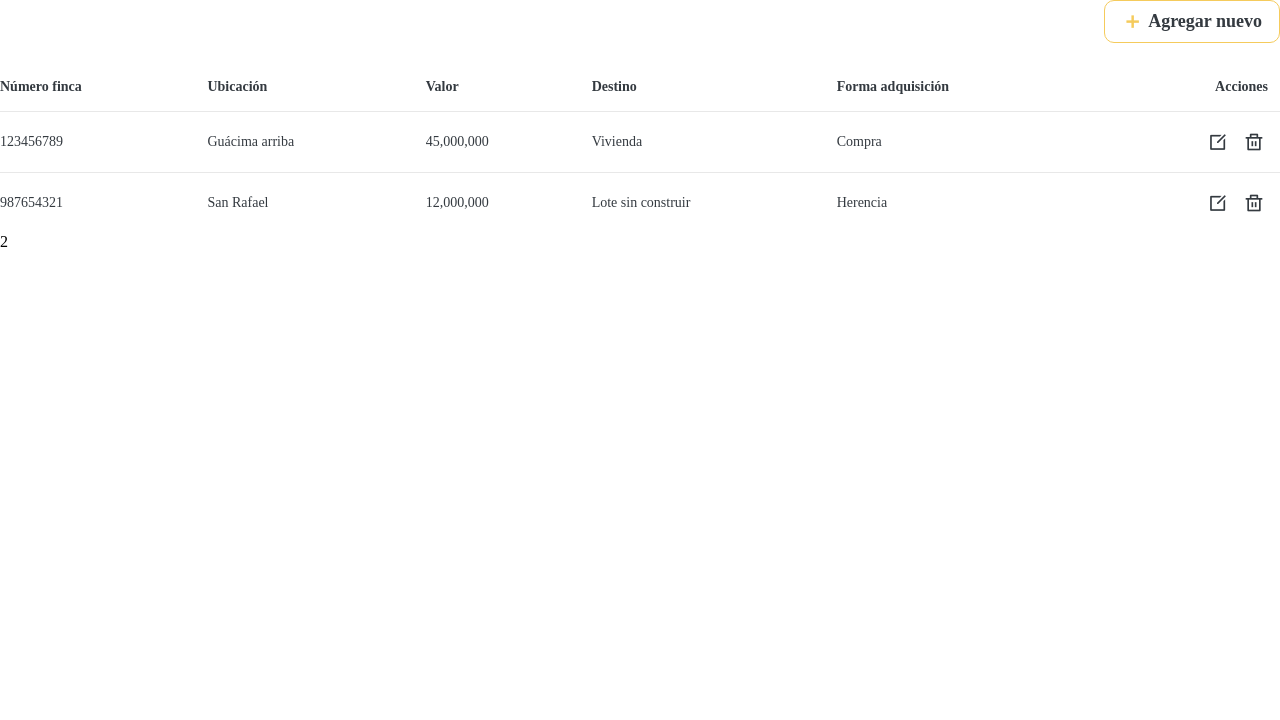
Test: RealEstate (paso 4) › removes a property and confirms with a notification
What coordinates should you click on to do the following:
click the button named "Eliminar finca 987654321"
I would click on:
 (1254, 203)
Its box is x1=1240 y1=189 x2=1268 y2=217.
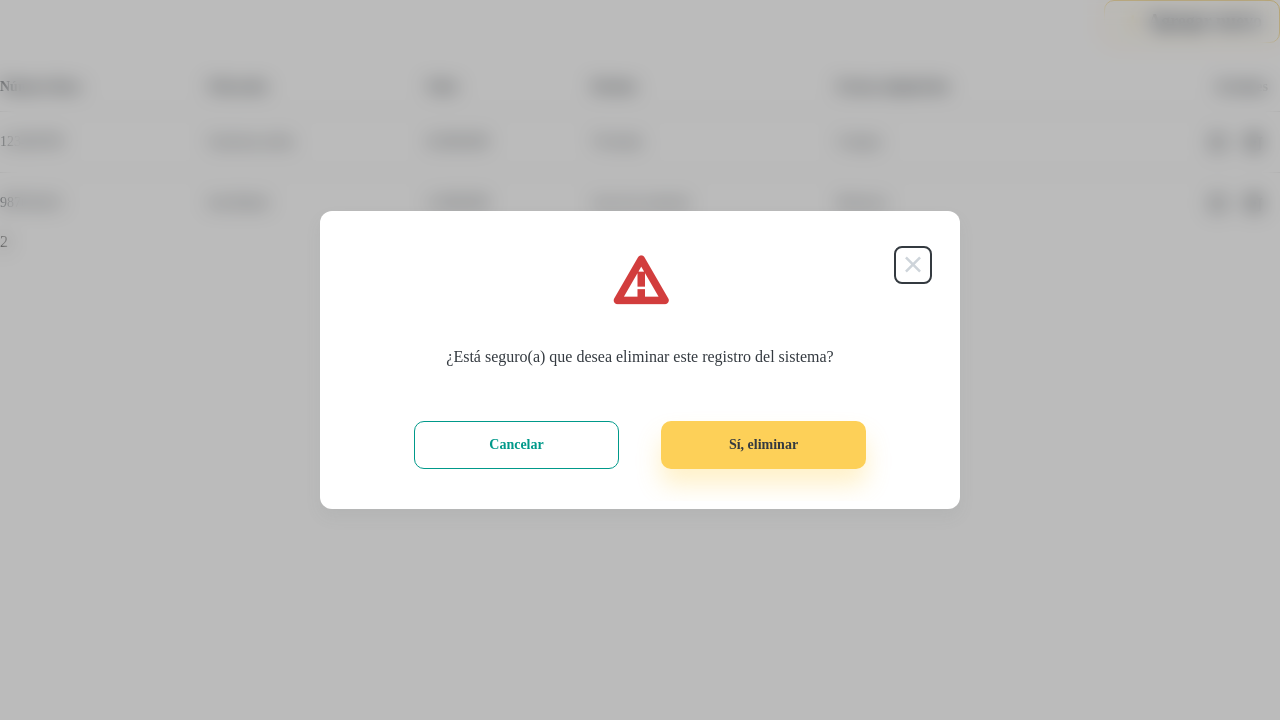
What coordinates should you click on to do the following:
click the button "Sí, eliminar"
I would click on:
 (764, 445)
Its box is x1=661 y1=421 x2=866 y2=469.
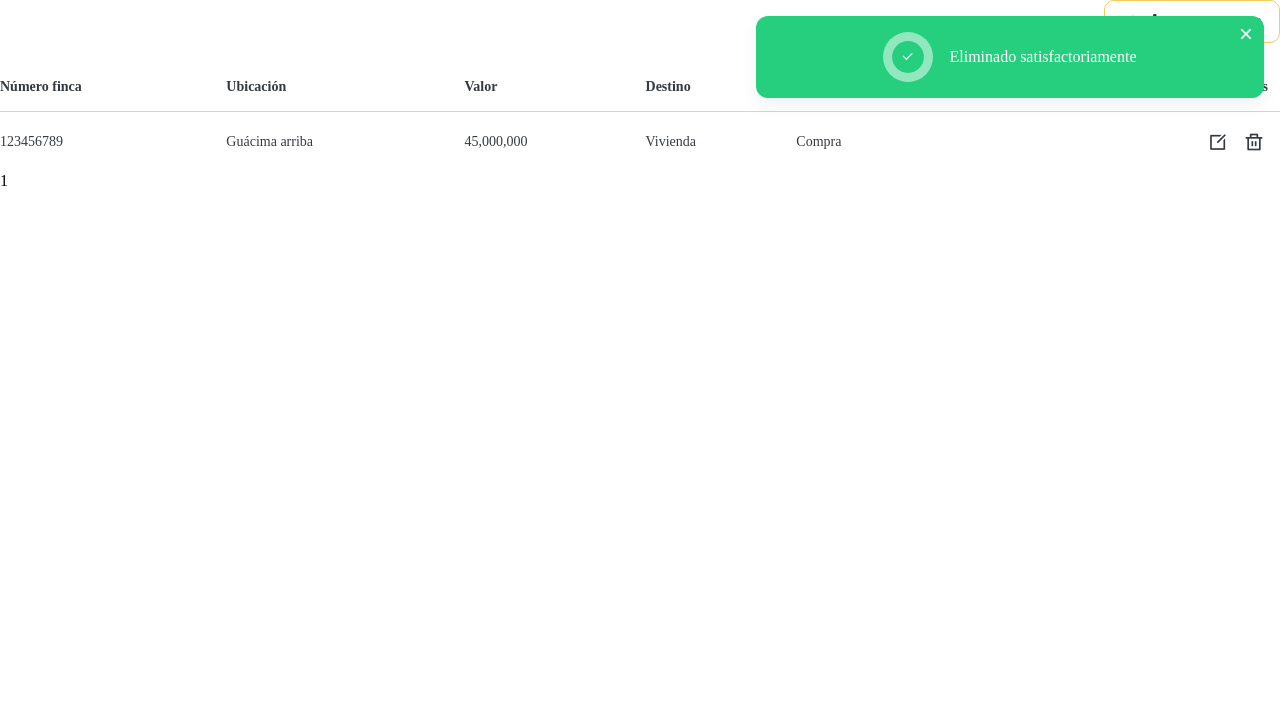
Check: the text "San Rafael" is gone
Check: the text with test id "count" reads "1", box x1=0 y1=172 x2=8 y2=189
Check: the text "Eliminado satisfactoriamente" is shown, box x1=950 y1=47 x2=1136 y2=67
